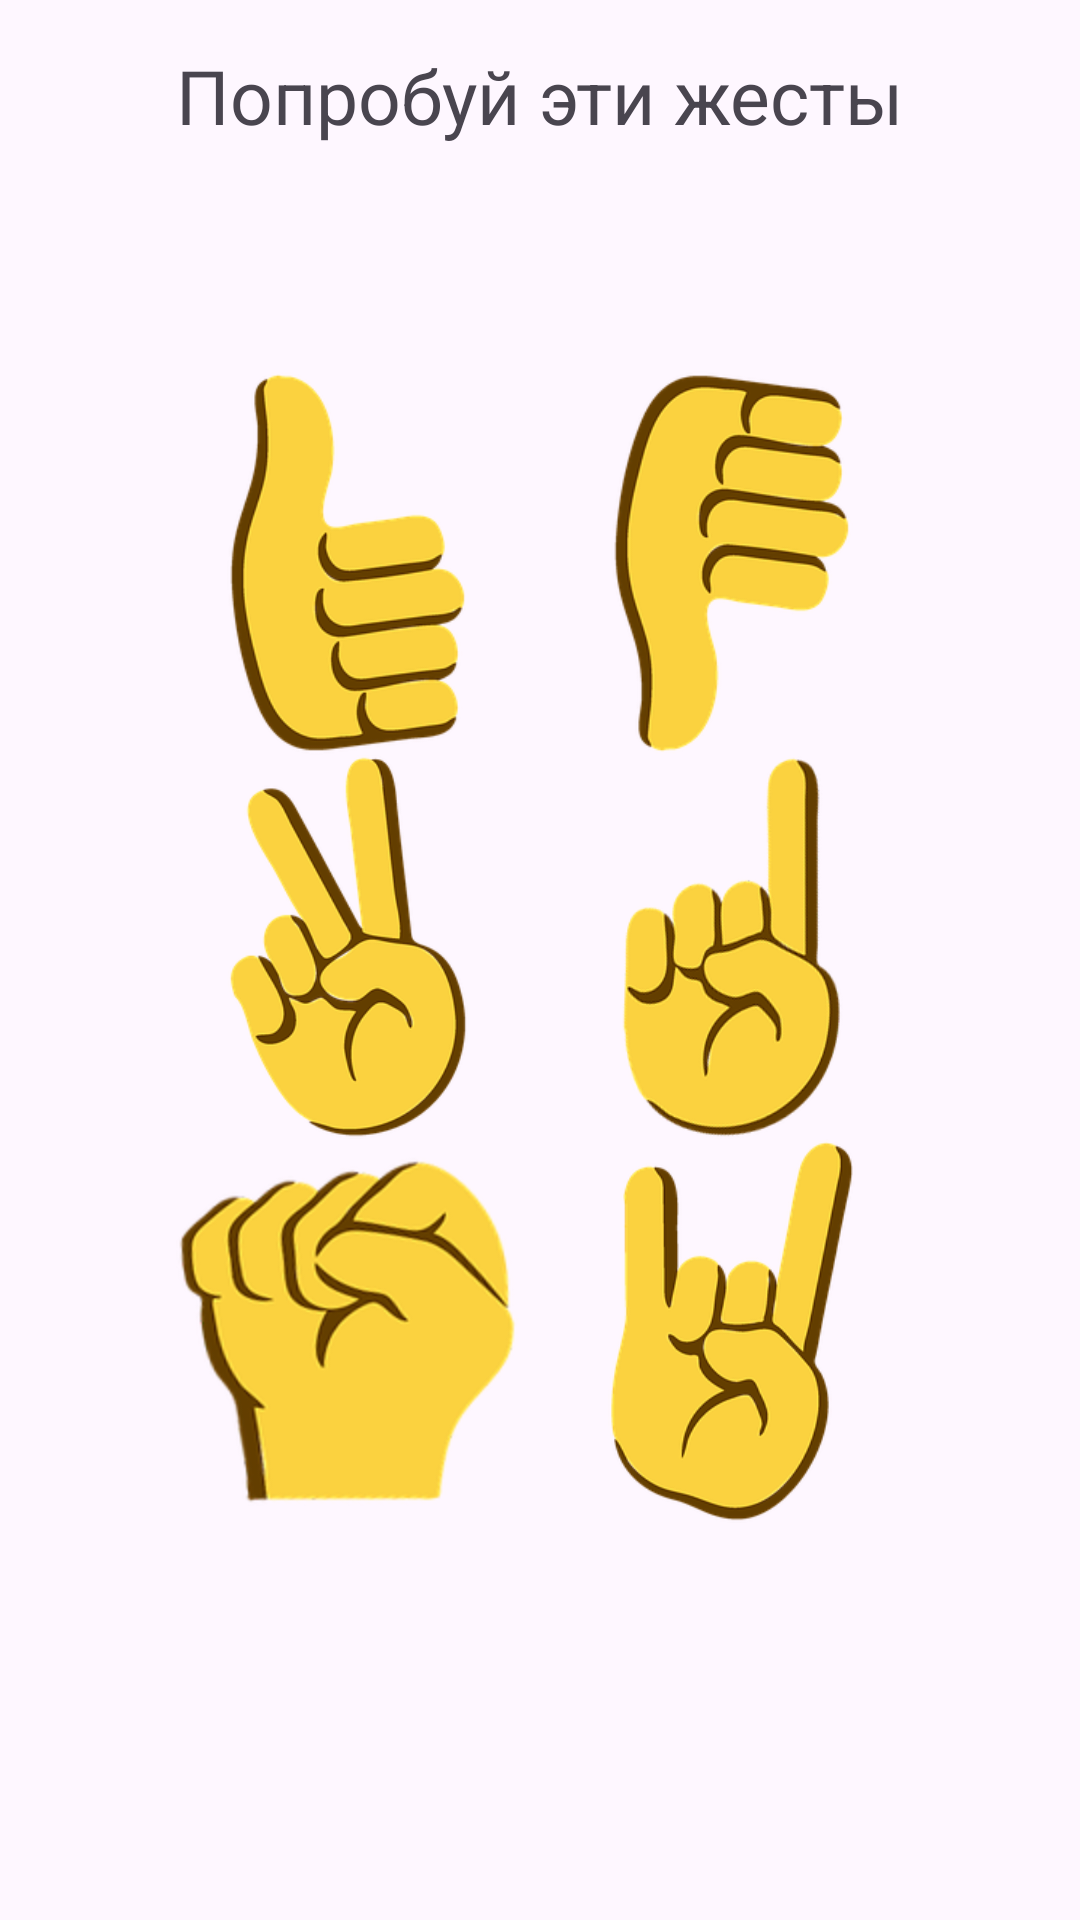

Icon bounding boxes for this 1080px×1920px phone screenshot, format (x1,y1,x2,y2):
closedfisticon: (180,1161,515,1502)
